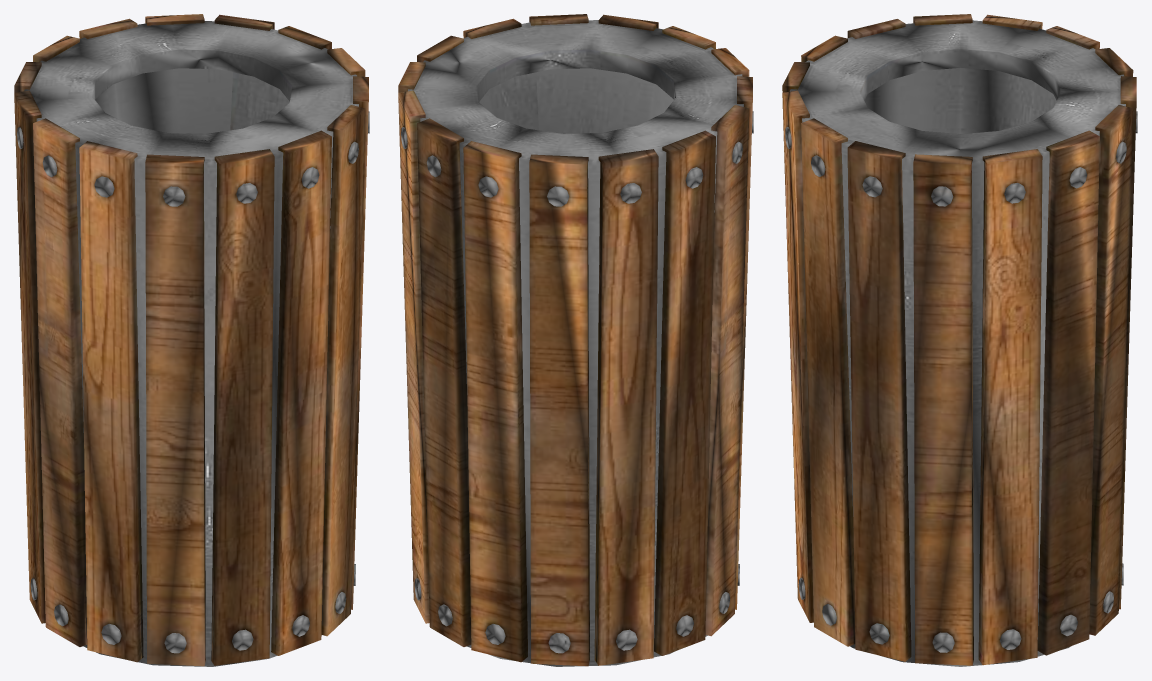
Rendered from bin_wood.glb.
The picture shows the model from 3 angles, left to right: view 1: azimuth 30°, elevation 25°; view 2: azimuth 150°, elevation 25°; view 3: azimuth 270°, elevation 25°; orthographic projection.
Parts seen in each view (by area): view 1: tacho.001_w; view 2: tacho.001_w; view 3: tacho.001_w.
Boxes of the visible parts, bbox=[...] form: tacho.001_w: bbox=[14, 14, 369, 666]; tacho.001_w: bbox=[398, 14, 753, 666]; tacho.001_w: bbox=[782, 14, 1137, 666].
Size of the model in its own units: 0.5652 by 0.9 by 0.5636.
1 material, 1 textured.
